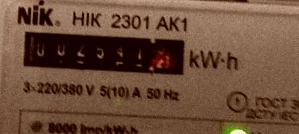0: (32, 36, 47, 58), (53, 35, 67, 57)
1: (132, 41, 145, 62)
2: (73, 38, 87, 58)
4: (113, 39, 127, 61)
5: (92, 38, 106, 60)
6: (154, 55, 166, 70)
screen: (11, 20, 196, 85)
